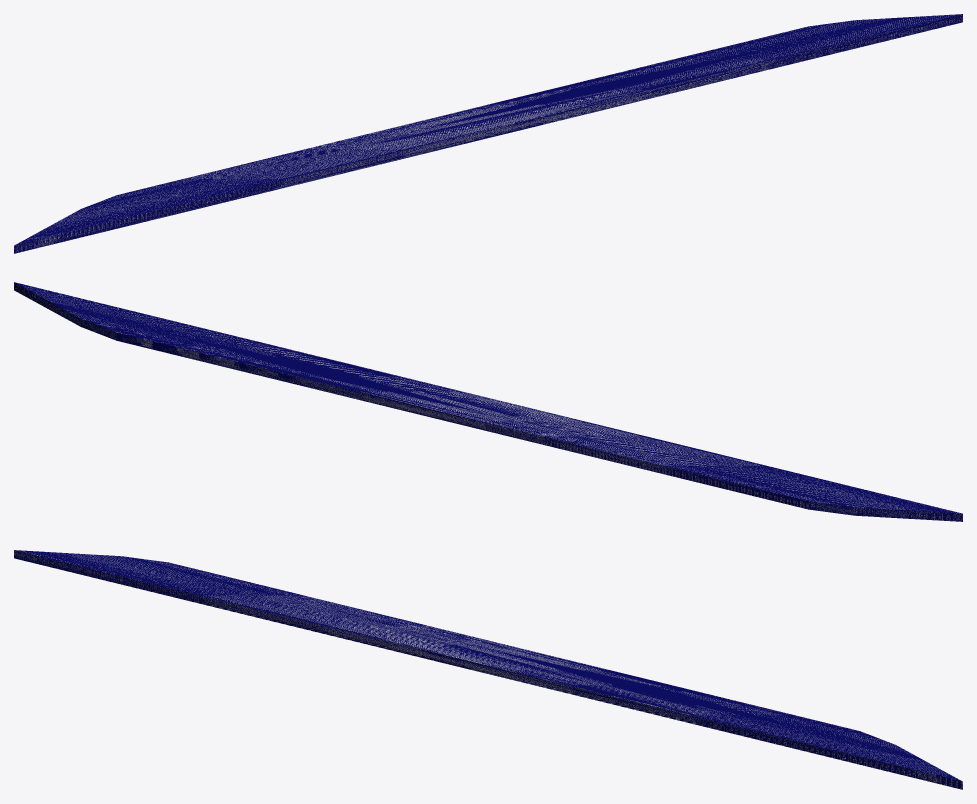
File: original-17.obj
3 views of the same model, one above another, from view 1: azimuth 30°, elevation 25°; view 2: azimuth 150°, elevation 25°; view 3: azimuth 330°, elevation 25° (orthographic).
Parts seen in each view (by area): view 1: #ID112; view 2: #ID112; view 3: #ID112.
Part boxes in pixels (box(x1,y1,x2,y2)): #ID112: box(14, 14, 962, 253); #ID112: box(14, 282, 962, 521); #ID112: box(14, 550, 962, 789).
Size of the model in its own units: 0.2616 by 0.00219 by 0.0124.
